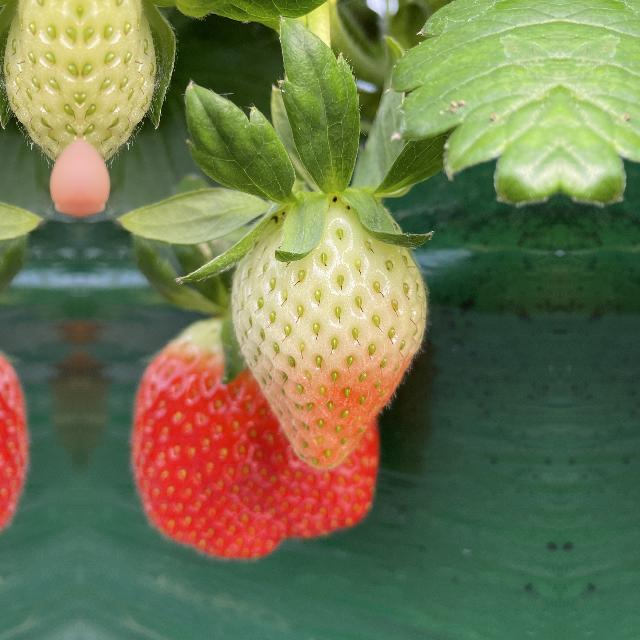Health_100: (128, 310, 384, 560)
Health_50: (225, 186, 430, 477)
